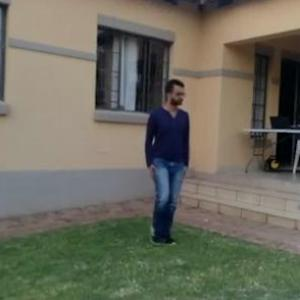follow: (142, 70, 197, 254)
